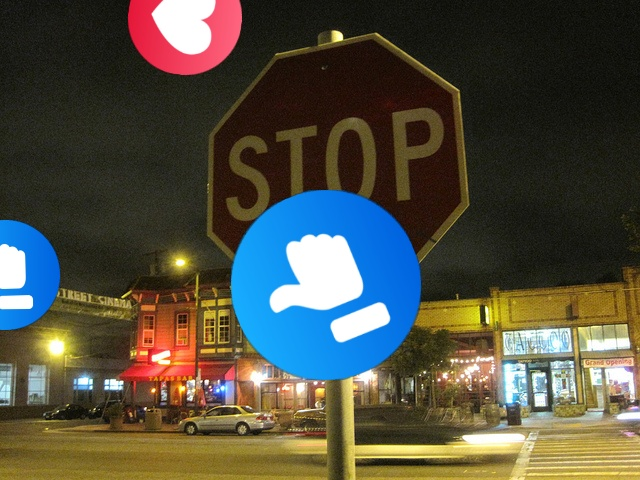like: (231, 190, 421, 380), (0, 220, 60, 330)
love: (128, 0, 242, 75)
